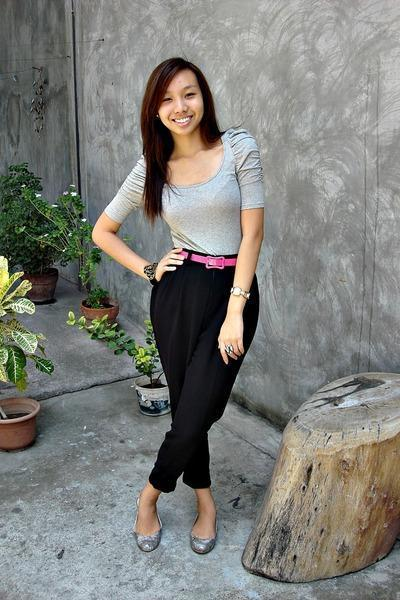pants: (147, 252, 248, 491)
shirt: (103, 132, 263, 255)
shoe: (136, 523, 205, 554)
